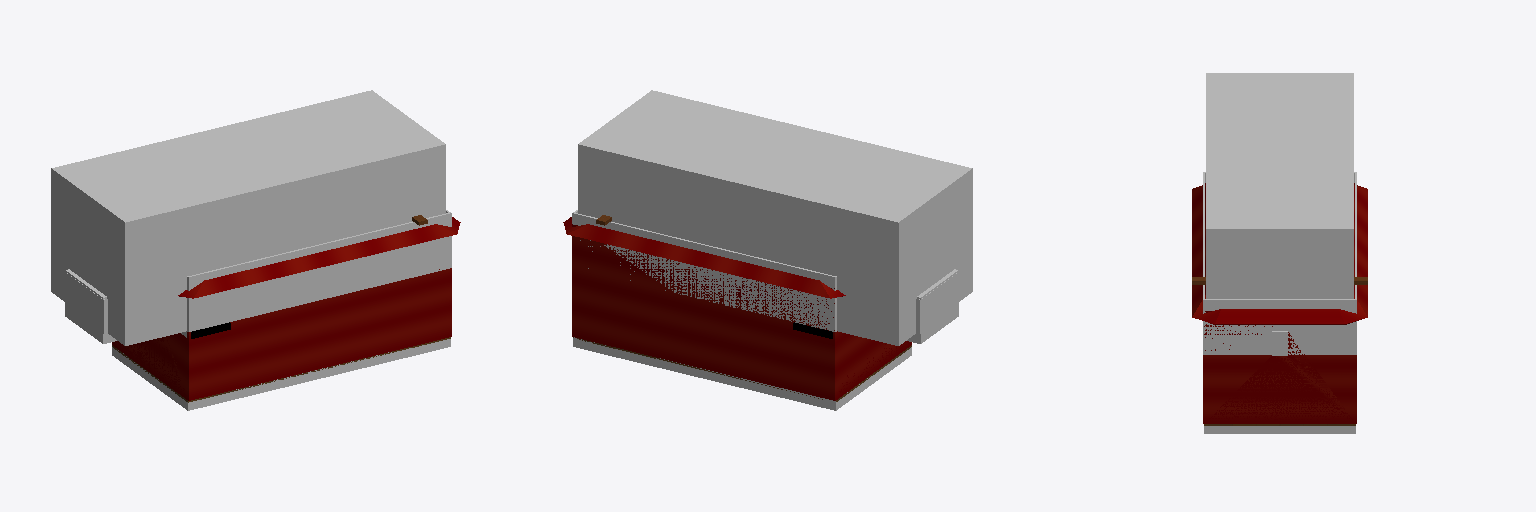
3 views of the same model, side by side, from view 1: azimuth 30°, elevation 25°; view 2: azimuth 150°, elevation 25°; view 3: azimuth 270°, elevation 25° (orthographic).
Visible parts, largest first — view 1: UCX_zone_circus_00, tent, UCX_circus_30, UCX_circus_floor_00; view 2: UCX_zone_circus_00, tent, UCX_circus_29, UCX_circus_floor_00; view 3: UCX_zone_circus_00, tent, UCX_circus_32, UCX_circus_34, UCX_circus_floor_00.
Boxes of the visible parts, x1=… form: UCX_zone_circus_00: x1=51, y1=90, x2=445, y2=345; tent: x1=66, y1=215, x2=460, y2=402; UCX_circus_30: x1=188, y1=212, x2=451, y2=331; UCX_circus_floor_00: x1=112, y1=339, x2=450, y2=410; UCX_zone_circus_00: x1=578, y1=90, x2=972, y2=345; tent: x1=563, y1=215, x2=957, y2=401; UCX_circus_29: x1=572, y1=212, x2=835, y2=331; UCX_circus_floor_00: x1=573, y1=337, x2=911, y2=410; UCX_zone_circus_00: x1=1206, y1=73, x2=1353, y2=298; tent: x1=1192, y1=183, x2=1367, y2=425; UCX_circus_32: x1=1288, y1=299, x2=1356, y2=354; UCX_circus_34: x1=1203, y1=299, x2=1271, y2=354; UCX_circus_floor_00: x1=1204, y1=426, x2=1355, y2=433.
Bounding box in the file's own units: 105 × 59 × 46.34.
20 materials, 13 textured.